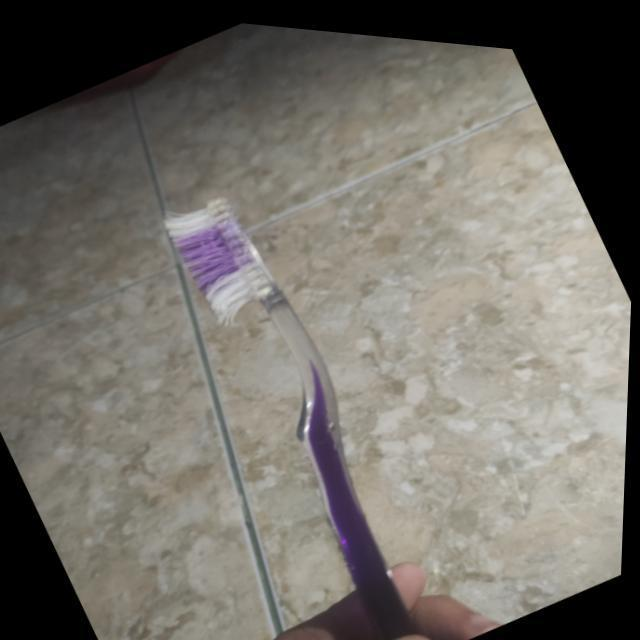toothbrush: (122, 156, 488, 640)
